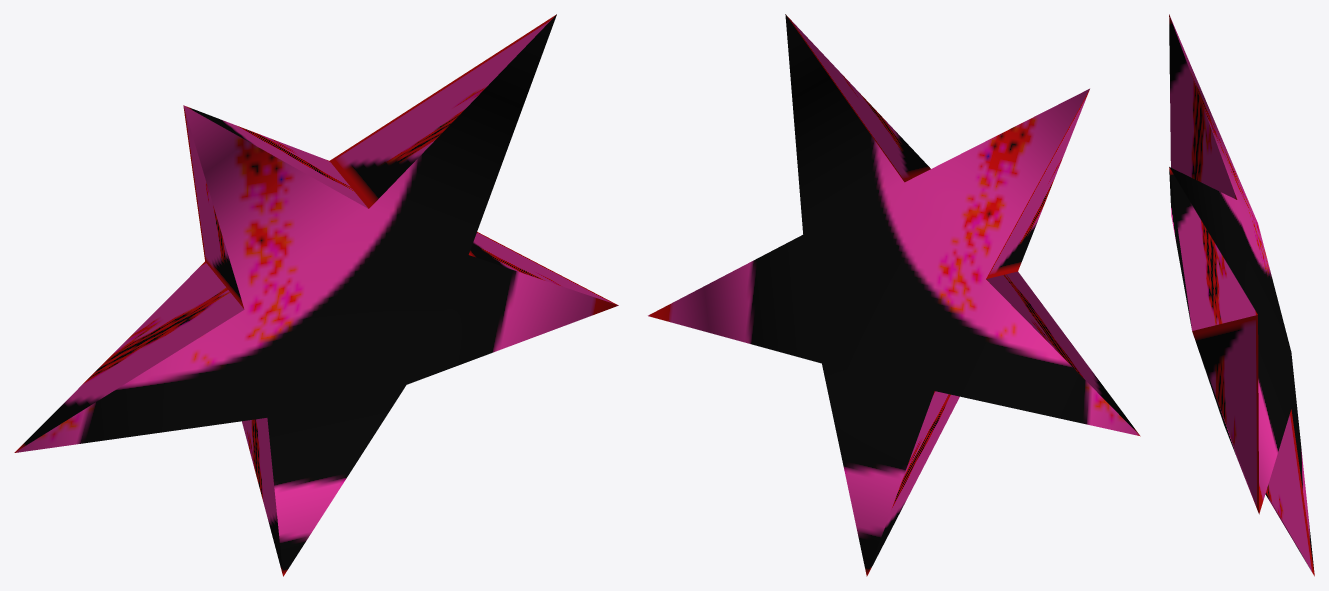
Rendered from parked.ico.obj.
The picture shows the model from 3 angles, left to right: view 1: azimuth 30°, elevation 25°; view 2: azimuth 150°, elevation 25°; view 3: azimuth 270°, elevation 25°; orthographic projection. The views are drawn at different scales.
Size of the model in its own units: 5 by 4.59 by 1.25.
